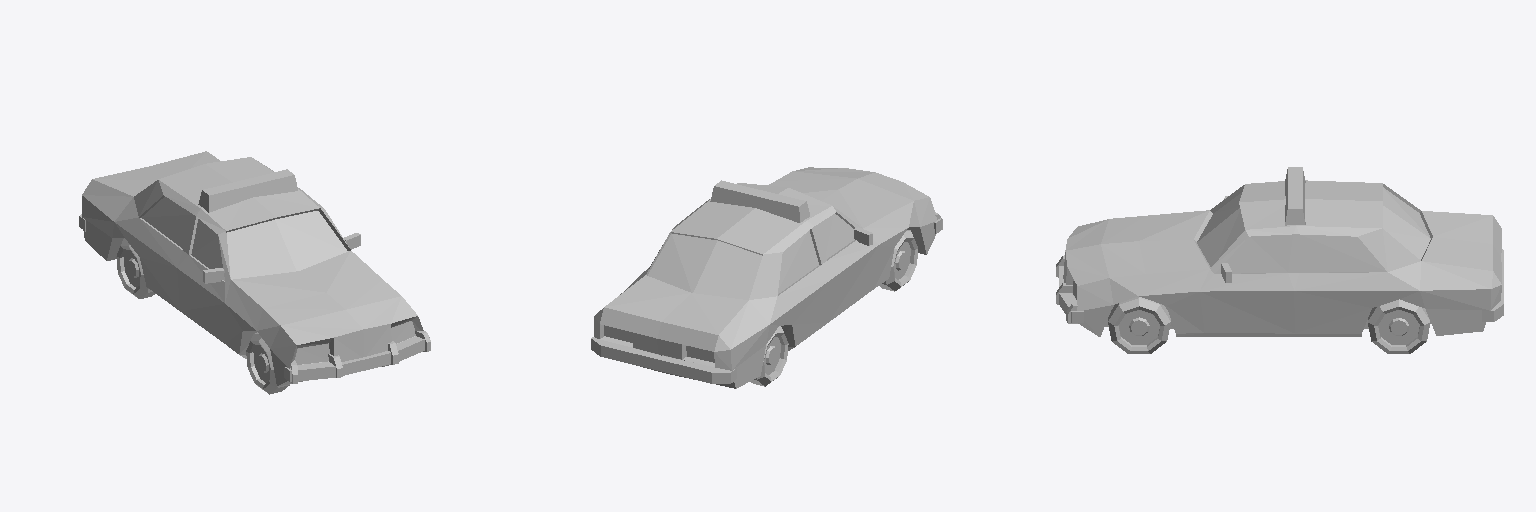
File: 80scop.obj
3 views of the same model, side by side, from view 1: azimuth 30°, elevation 25°; view 2: azimuth 150°, elevation 25°; view 3: azimuth 270°, elevation 25° (orthographic).
Visible parts, largest first — view 1: Policecar_Model_Cube.011, WheelP-1_Cylinder.028, WheelP-2_Cylinder.037; view 2: Policecar_Model_Cube.011, WheelP-1_Cylinder.028, WheelP-2_Cylinder.037; view 3: Policecar_Model_Cube.011, WheelP-4_Cylinder.035, WheelP-3_Cylinder.036.
Part boxes in pixels (bbox=[...]): Policecar_Model_Cube.011: bbox=[79, 151, 430, 386]; WheelP-1_Cylinder.028: bbox=[246, 332, 289, 394]; WheelP-2_Cylinder.037: bbox=[116, 238, 155, 298]; Policecar_Model_Cube.011: bbox=[591, 167, 942, 388]; WheelP-1_Cylinder.028: bbox=[879, 230, 917, 291]; WheelP-2_Cylinder.037: bbox=[750, 326, 788, 386]; Policecar_Model_Cube.011: bbox=[1056, 167, 1503, 336]; WheelP-4_Cylinder.035: bbox=[1108, 296, 1170, 353]; WheelP-3_Cylinder.036: bbox=[1368, 299, 1430, 353].
Bounding box in the file's own units: 1.95 × 1.62 × 4.83.